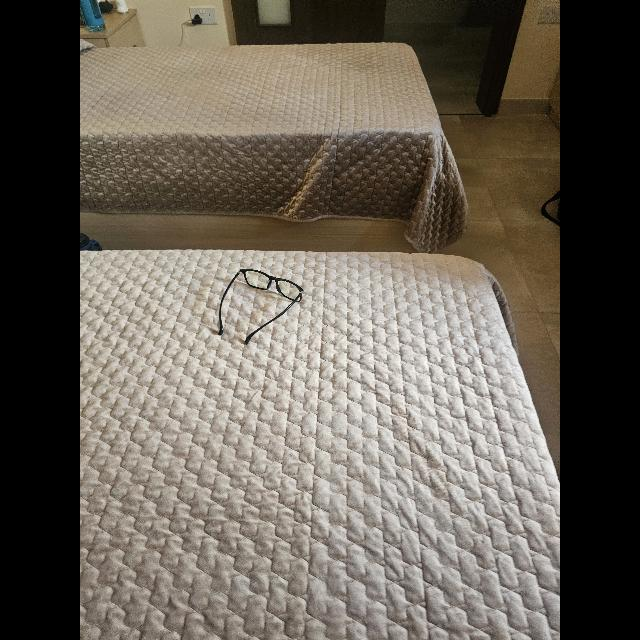glasses: (218, 269, 304, 345)
